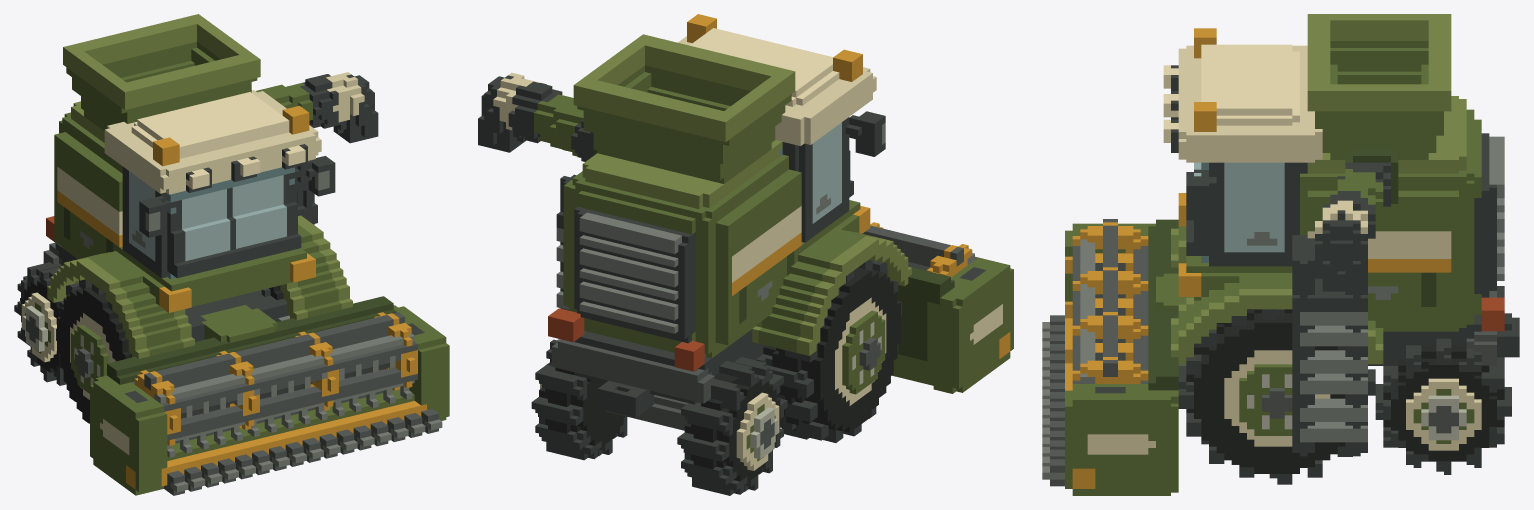
File: combine_harvester.glb
The picture shows the model from 3 angles, left to right: view 1: azimuth 30°, elevation 25°; view 2: azimuth 150°, elevation 25°; view 3: azimuth 270°, elevation 25°; orthographic projection. The views are drawn at different scales.
Visible parts, largest first — view 1: combine_harvester; view 2: combine_harvester; view 3: combine_harvester.
Boxes of the visible parts, box(x1,y1,x2,y2) form: combine_harvester: box(14, 14, 449, 495); combine_harvester: box(478, 14, 1013, 495); combine_harvester: box(1042, 14, 1519, 495).
Size of the model in its own units: 8.19 by 7.15 by 8.19.
